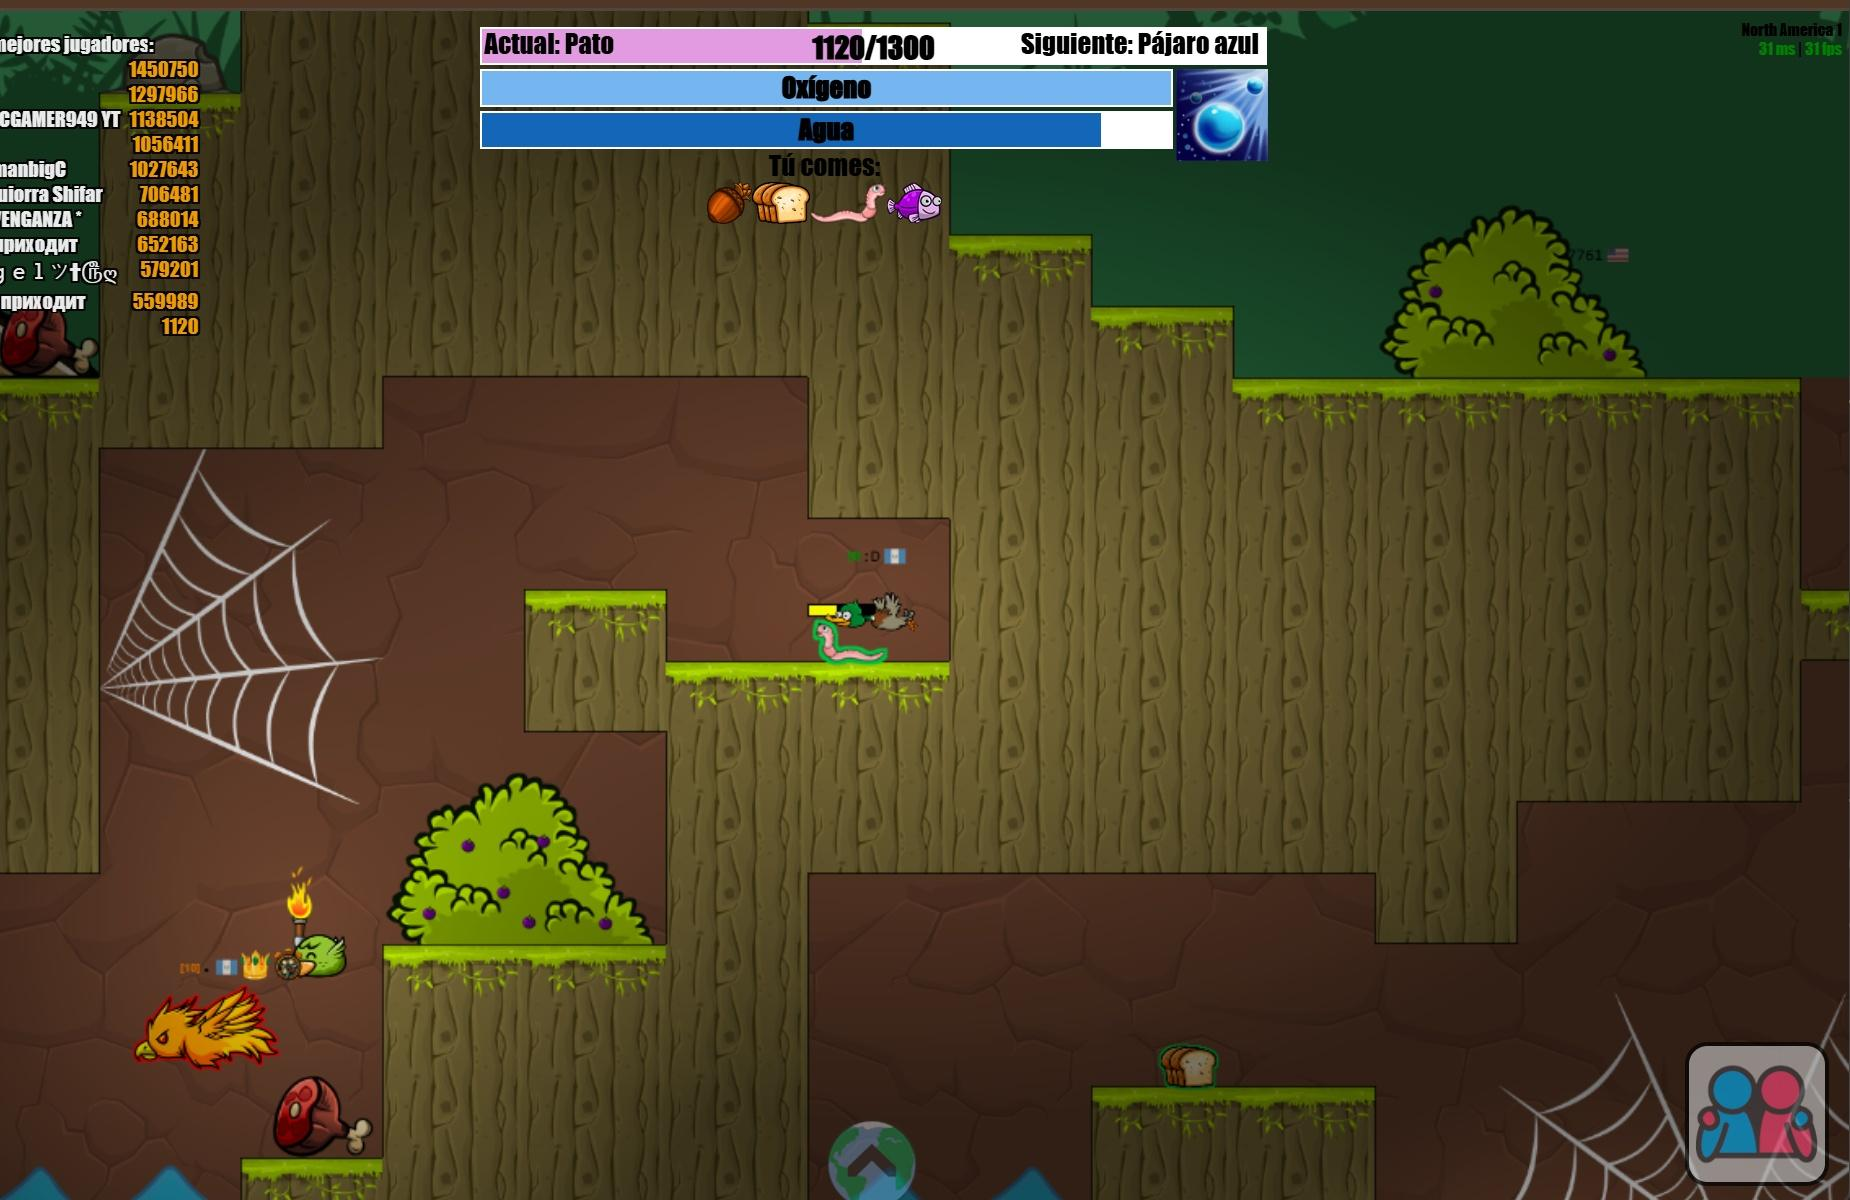agua: (802, 1169, 1087, 1200)
antorcha: (287, 882, 317, 918)
arandano: (1601, 344, 1618, 364), (498, 884, 511, 899), (522, 914, 534, 929), (461, 837, 473, 851), (600, 916, 612, 929), (423, 903, 434, 918), (1428, 287, 1441, 298), (538, 833, 549, 847)
arbusto: (1381, 209, 1648, 378), (387, 778, 649, 938)
avellana: (707, 185, 750, 225)
carne: (268, 1077, 372, 1156), (638, 253, 740, 332), (0, 298, 96, 376)
fenix: (135, 995, 279, 1072)
gusano: (817, 623, 886, 662)
mascota: (291, 937, 349, 979)
pan: (1157, 1037, 1220, 1091), (754, 181, 810, 221)
pato: (827, 592, 918, 631)
pez: (887, 182, 944, 220)
suelo: (949, 383, 1800, 790), (104, 240, 1090, 368), (1098, 1092, 1377, 1197), (1092, 317, 1227, 380)
tela: (101, 445, 365, 794), (1506, 991, 1845, 1200)
